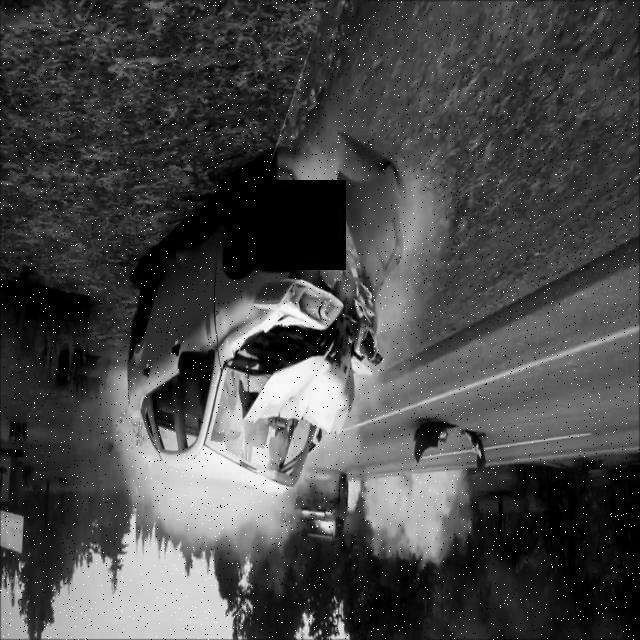vehicle: (132, 180, 400, 497), (294, 451, 368, 548)
